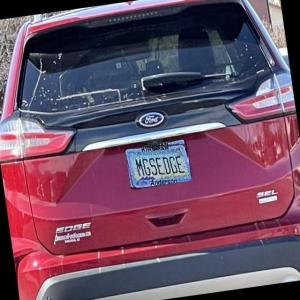Plate: (124, 140, 194, 190)
